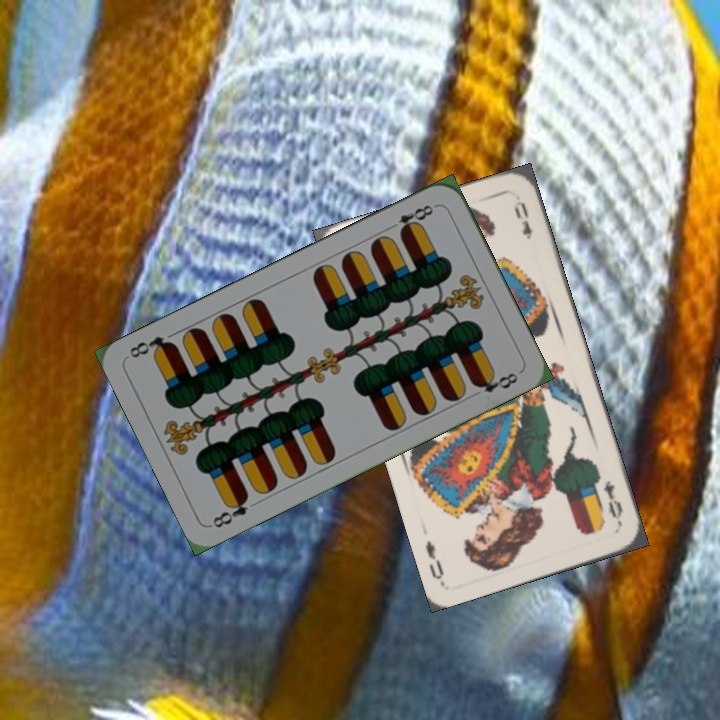E8: (384, 200, 440, 237), (208, 490, 252, 531)
EO: (599, 476, 626, 527)
